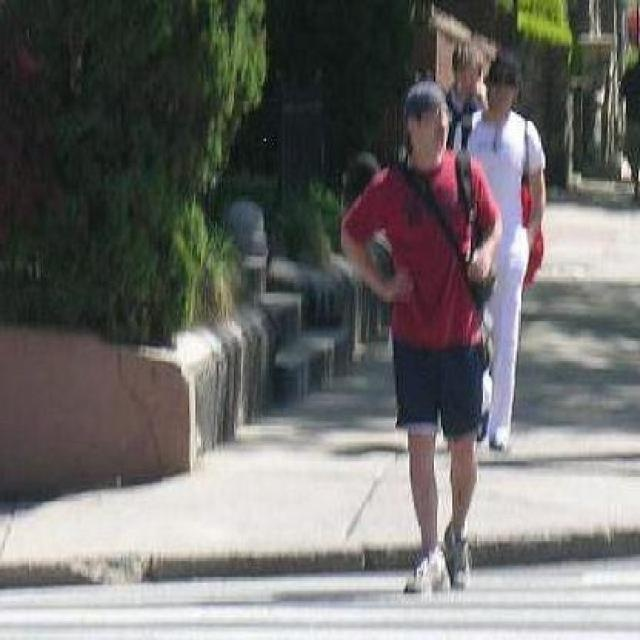obstacle: (340, 78, 506, 596), (458, 53, 548, 456)
